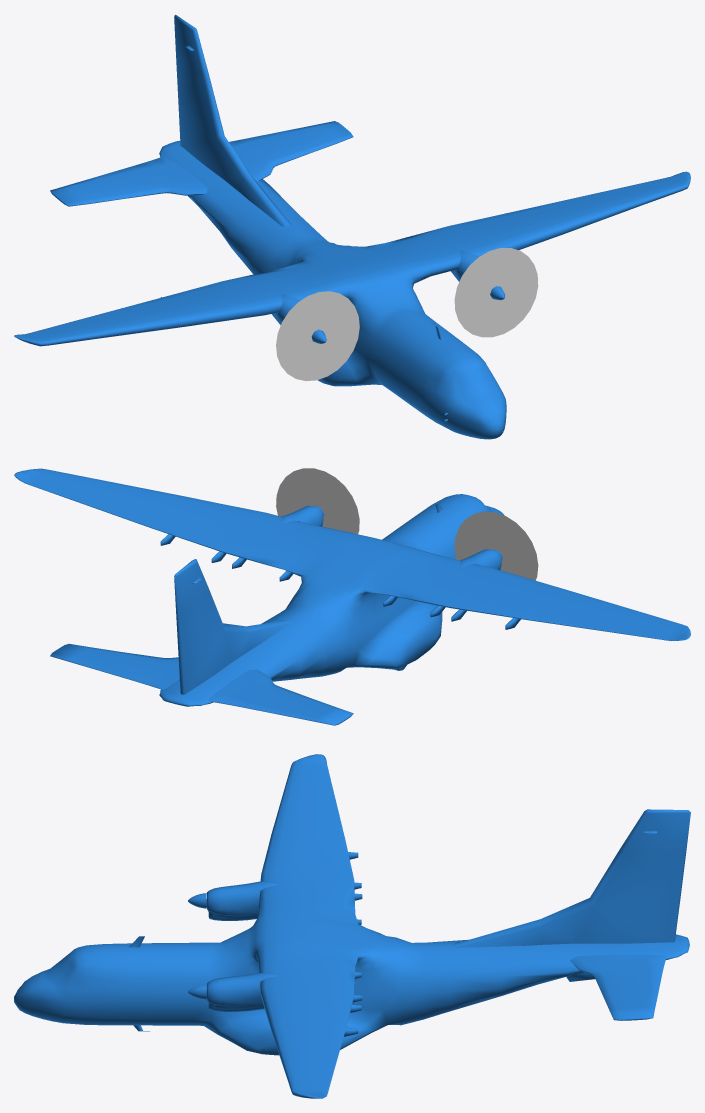
The model's file is bluePlane.glb.
The picture shows the model from 3 angles, top to bottom: view 1: azimuth 30°, elevation 25°; view 2: azimuth 150°, elevation 25°; view 3: azimuth 270°, elevation 25°; orthographic projection. The views are drawn at different scales.
Visible parts, largest first — view 1: Cesium_Air, Prop__2_, Prop; view 2: Cesium_Air, Prop, Prop__2_; view 3: Cesium_Air.
Part boxes in pixels (left/top/right/bottom): Cesium_Air: left=14, top=14, right=690, bottom=439; Prop__2_: left=454, top=248, right=538, bottom=337; Prop: left=276, top=291, right=359, bottom=380; Cesium_Air: left=14, top=468, right=690, bottom=725; Prop: left=454, top=511, right=538, bottom=580; Prop__2_: left=276, top=468, right=359, bottom=534; Cesium_Air: left=14, top=754, right=690, bottom=1098.
Size of the model in its own units: 25.74 by 7.76 by 21.4.
